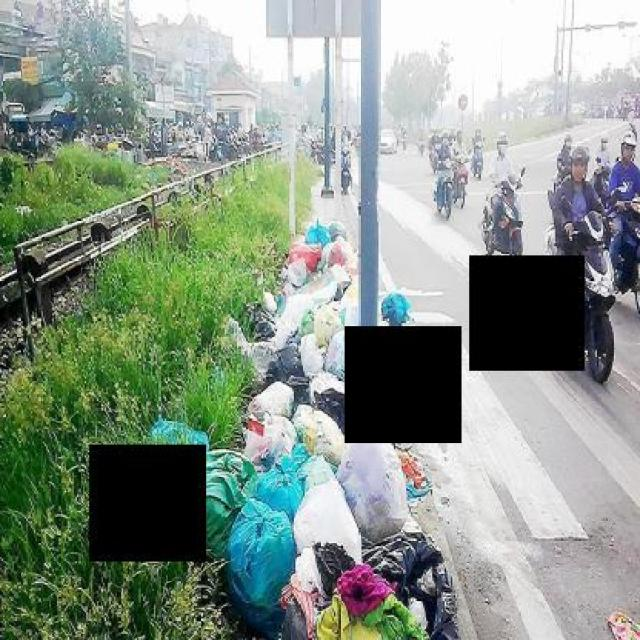plastic bag: (185, 212, 466, 638), (225, 481, 300, 634), (184, 440, 250, 562), (336, 426, 406, 539), (292, 482, 372, 576), (380, 289, 411, 328)
